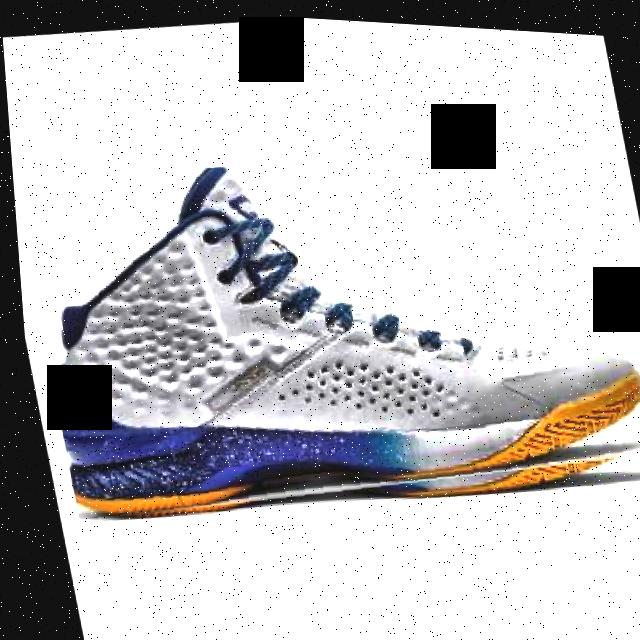shoe: (6, 106, 640, 549)
